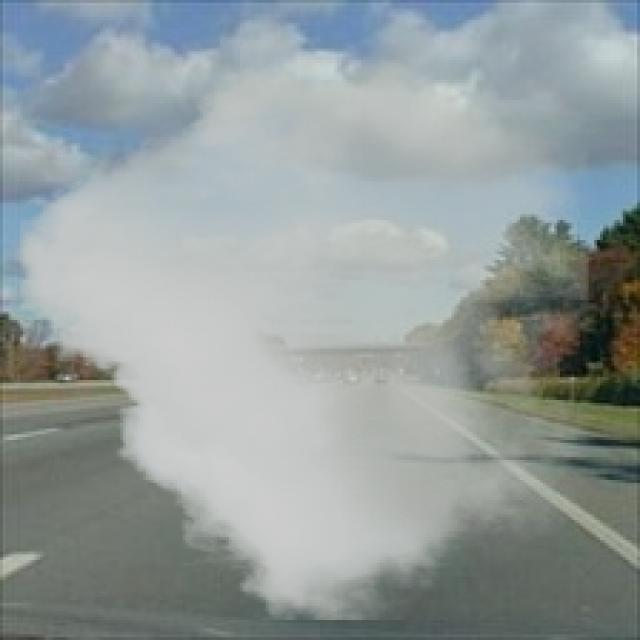Smoke: (20, 57, 589, 620)
